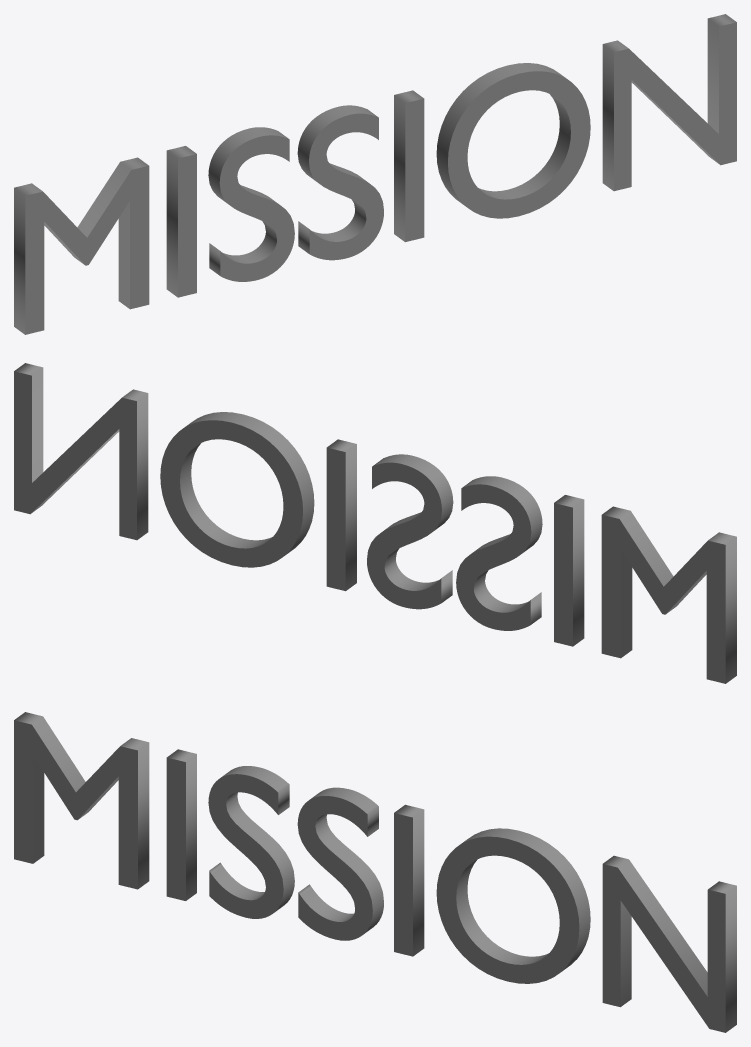
File: mission.obj
3 views of the same model, one above another, from view 1: azimuth 30°, elevation 25°; view 2: azimuth 150°, elevation 25°; view 3: azimuth 330°, elevation 25° (orthographic).
Visible parts, largest first — view 1: MISSION; view 2: MISSION; view 3: MISSION.
Part boxes in pixels (left/top/right/bottom): MISSION: left=14, top=14, right=736, bottom=334; MISSION: left=14, top=363, right=736, bottom=683; MISSION: left=14, top=712, right=736, bottom=1032.
Size of the model in its own units: 3.65 by 0.7 by 0.1.
